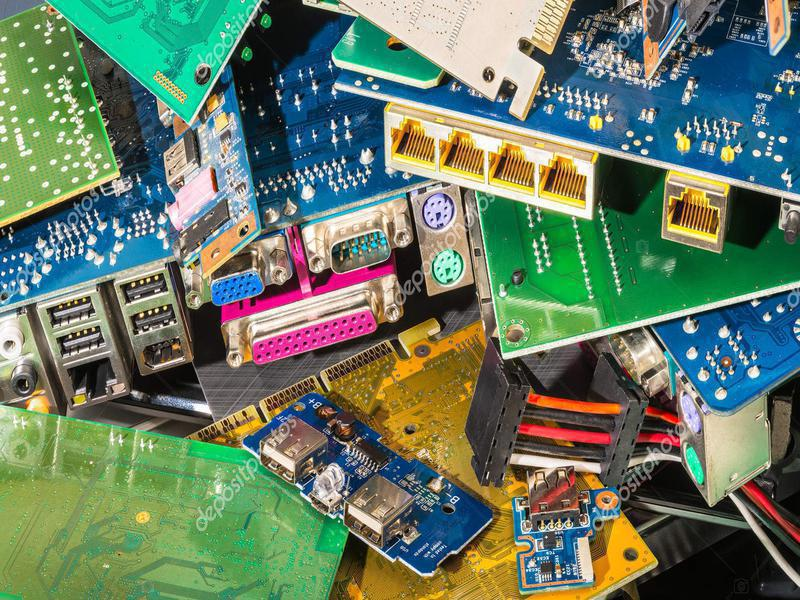circuit_board: (333, 1, 800, 202), (1, 391, 349, 600), (233, 389, 497, 580), (122, 58, 269, 281), (1, 6, 127, 231), (495, 464, 638, 598)
